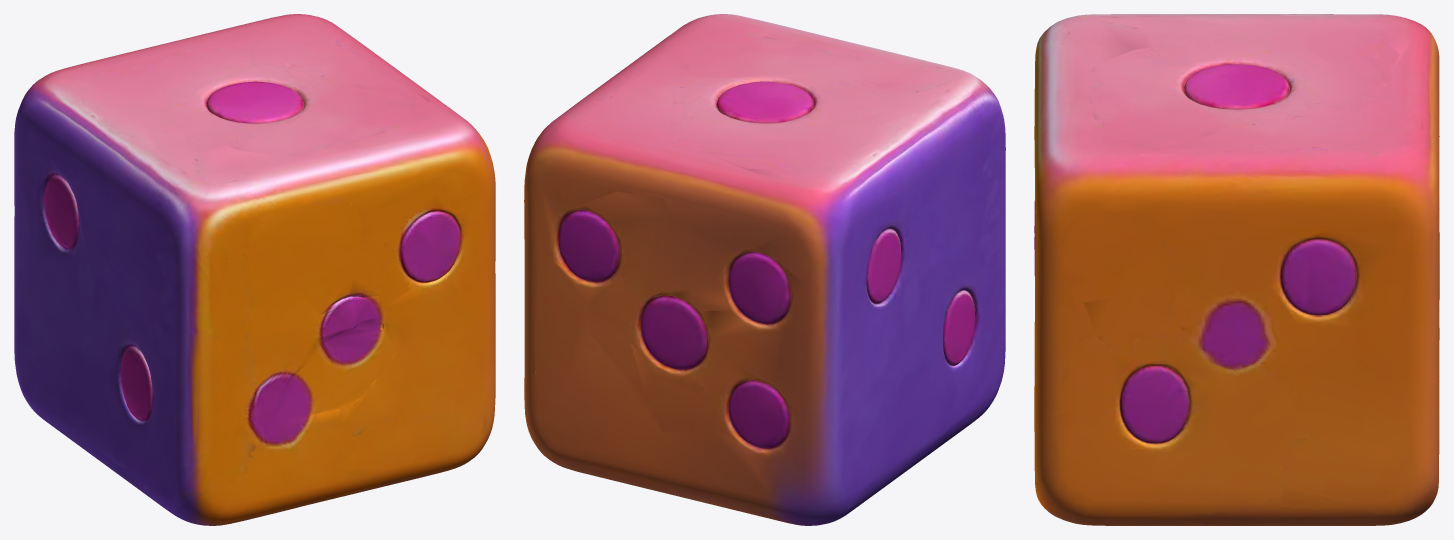
Rendered from dice__main__r1__p1.glb.
3 renders of one model, left to right at view 1: azimuth 30°, elevation 25°; view 2: azimuth 150°, elevation 25°; view 3: azimuth 270°, elevation 25°, orthographic. The views are drawn at different scales.
Visible parts, largest first — view 1: model; view 2: model; view 3: model.
Part boxes in pixels (x1=…): model: x1=14, y1=14, x2=495, y2=525; model: x1=524, y1=14, x2=1005, y2=525; model: x1=1034, y1=14, x2=1439, y2=525.
Bounding box in the file's own units: 1.79 × 1.85 × 1.82.
Materials: 1 (1 with a texture image).
